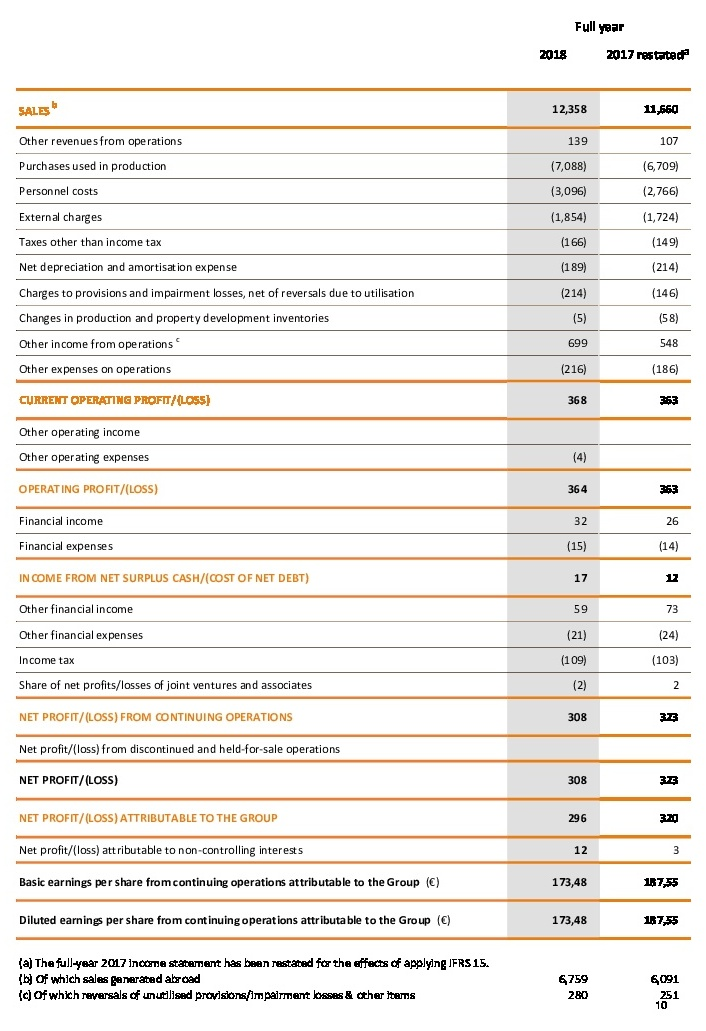table: (0, 0, 706, 1031)
